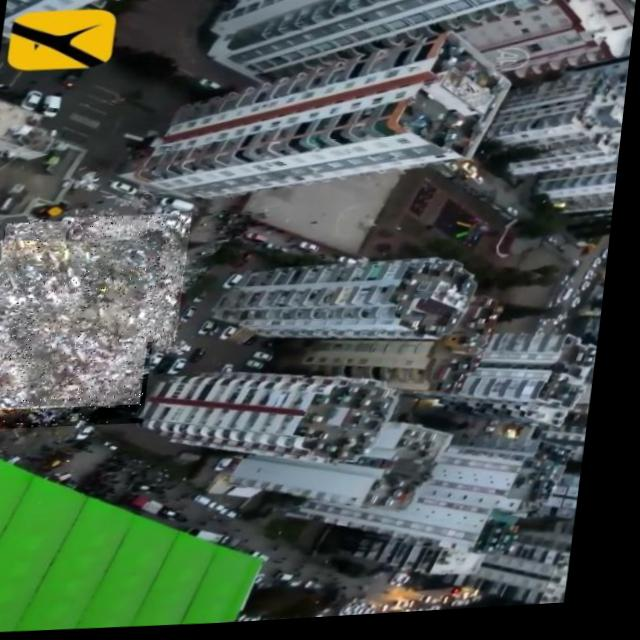Rubble: (0, 234, 166, 414), (62, 213, 196, 349), (0, 340, 159, 433), (0, 221, 72, 346)
